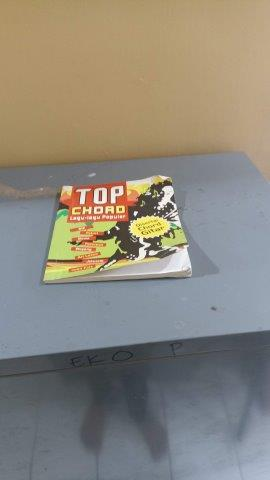kertas: (41, 175, 194, 280)
